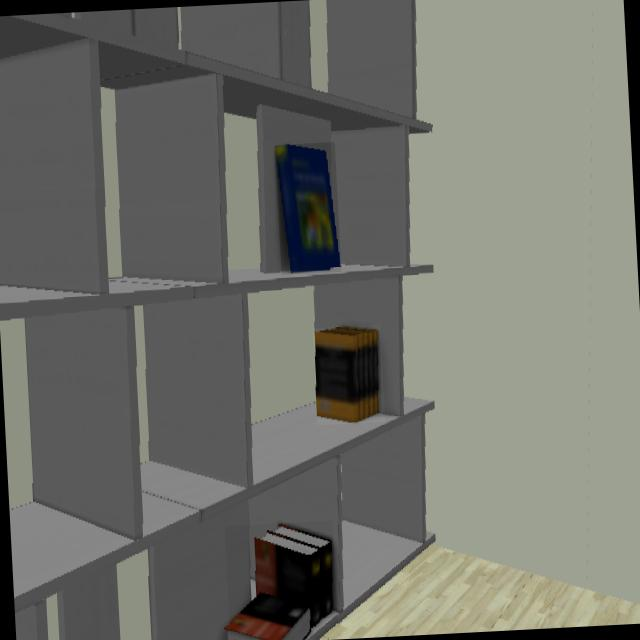book: (230, 524, 337, 640), (275, 145, 341, 274), (315, 327, 382, 424)
